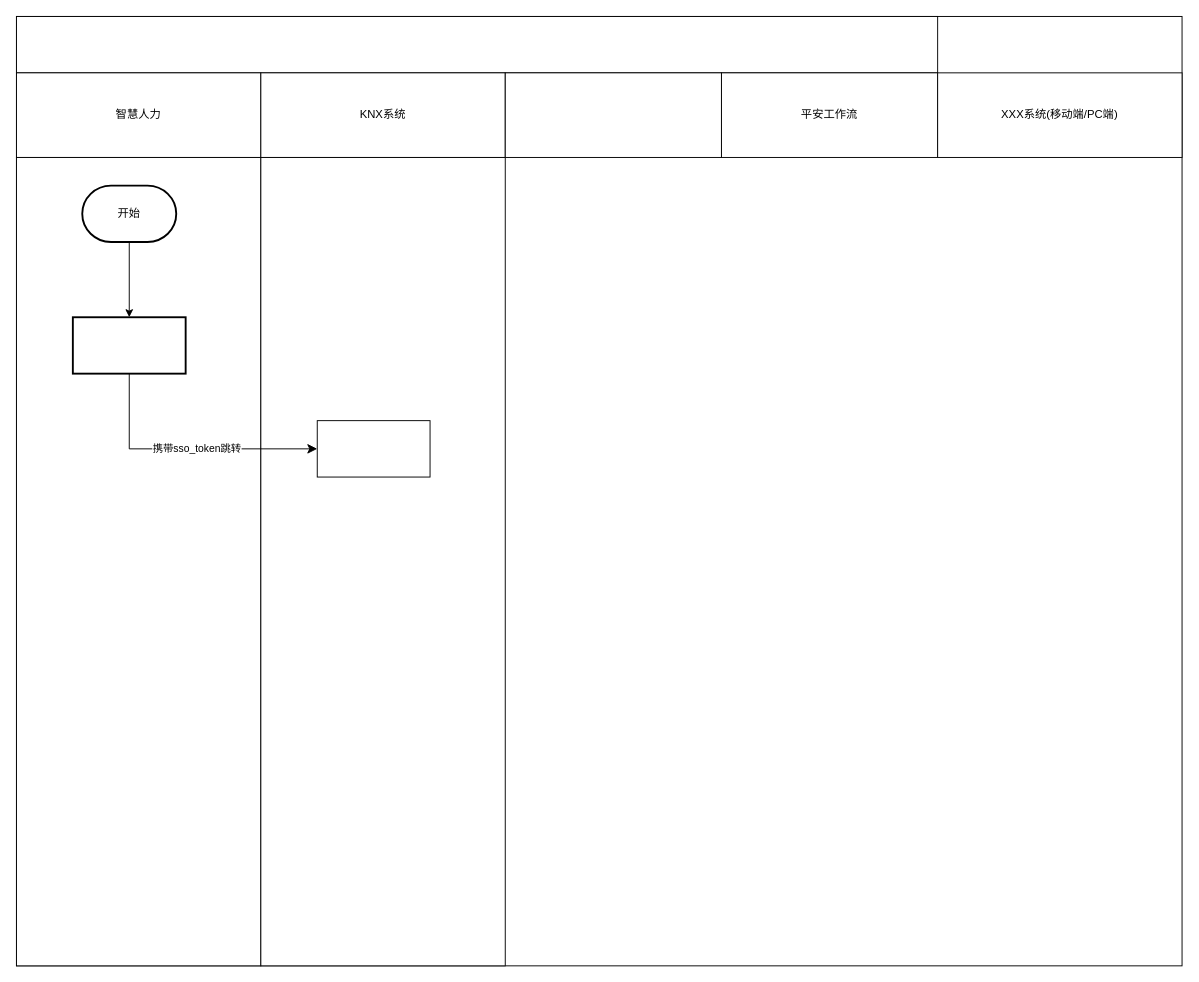
The diagram is 1199 pixels wide and 982 high, and some of its shapes have lost their labels. The shapes that lost their labels are listed below. From the top down, each one's box as (x1, y1, x2, y2) in pixels, then its label:
(16, 16, 938, 73): 员工综合素质行为记录录入
(71, 316, 186, 374): 发起 员工综合素质行为记录录入
